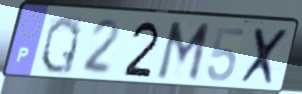2: (79, 17, 122, 78), (122, 20, 161, 81)
5: (205, 24, 247, 83)
M: (153, 20, 214, 85)
Q: (38, 13, 84, 76)
X: (237, 26, 294, 89)
